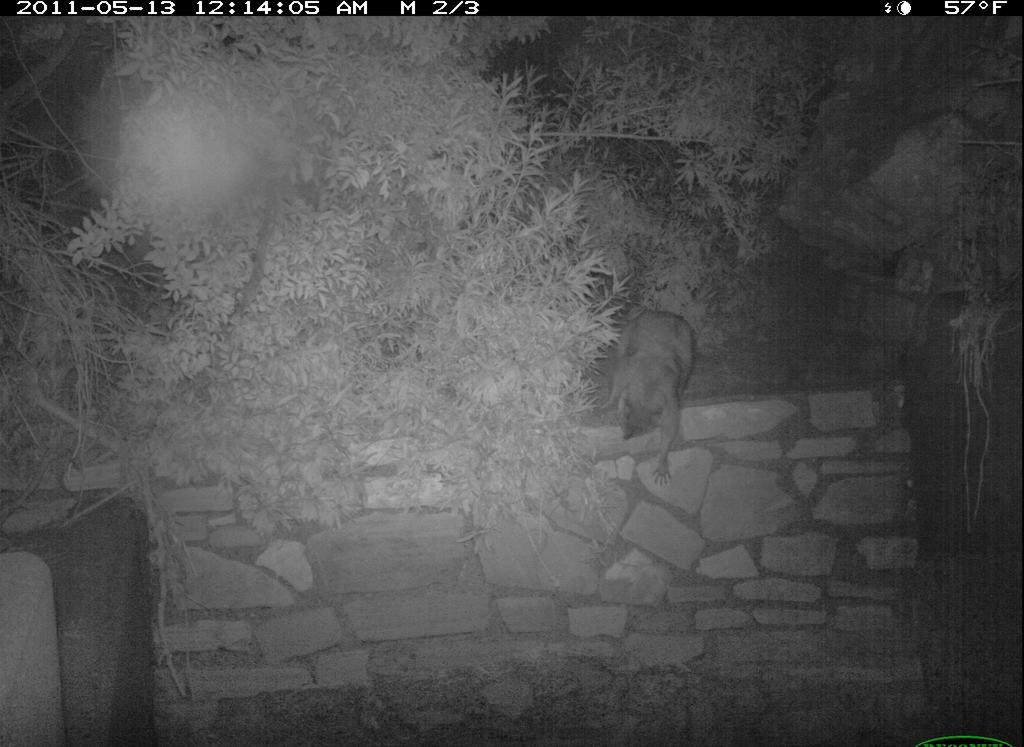raccoon: (603, 283, 713, 488)
